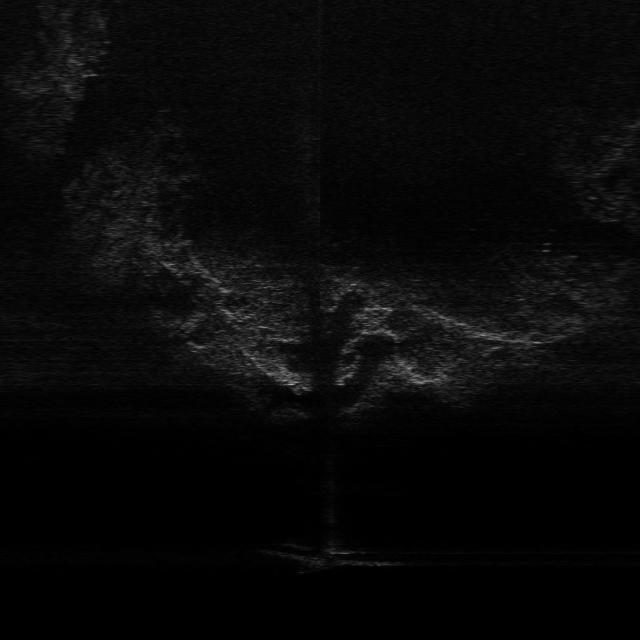plane: (258, 538, 412, 572)
